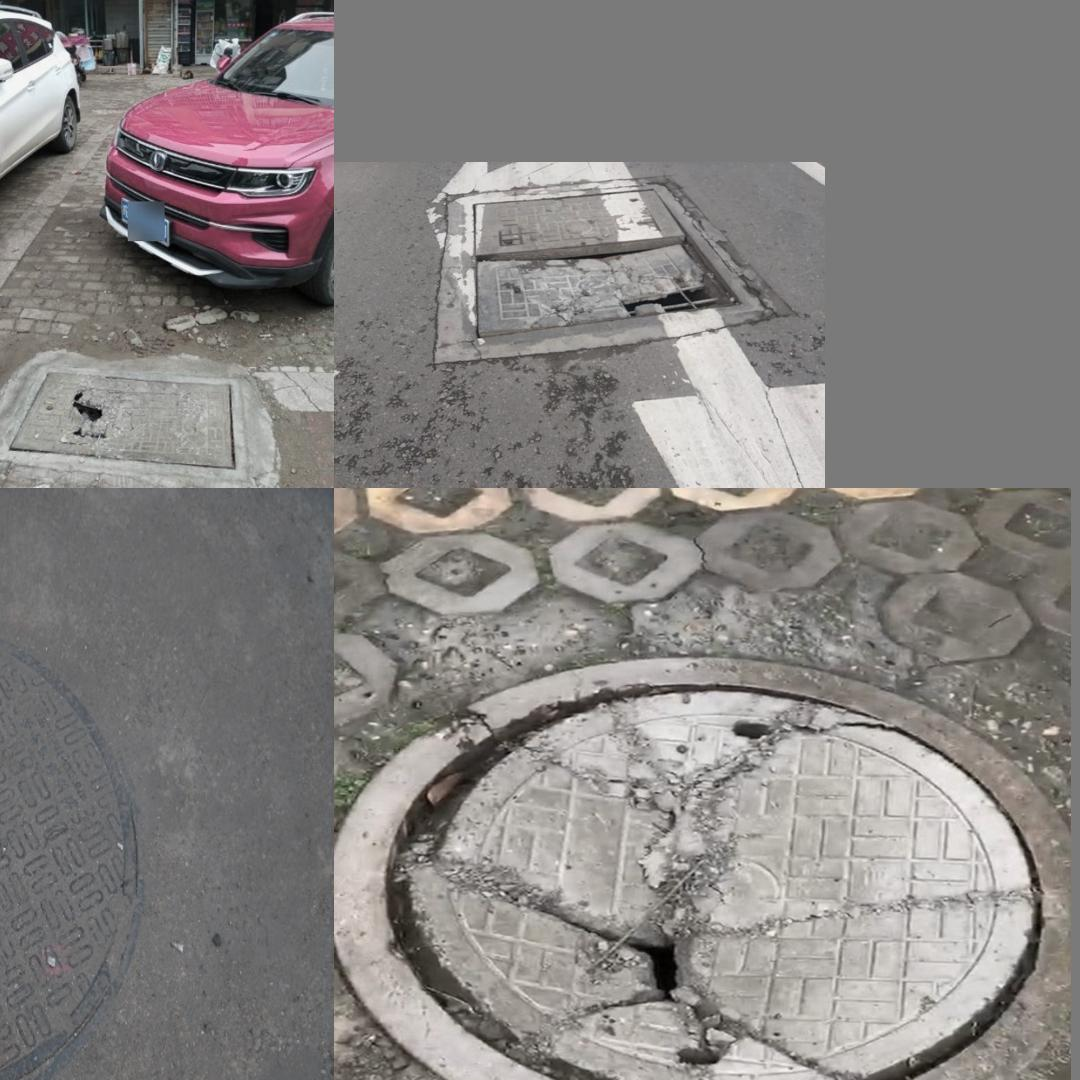broke: (382, 683, 1051, 1080), (0, 617, 141, 1080), (440, 183, 775, 360), (0, 365, 246, 481)
